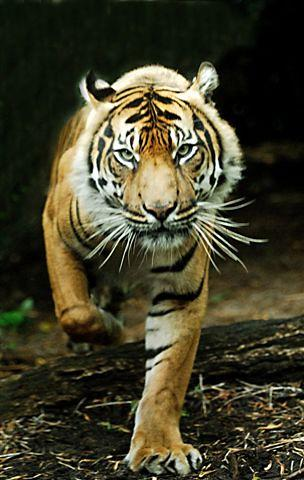tiger: (41, 61, 269, 477)
